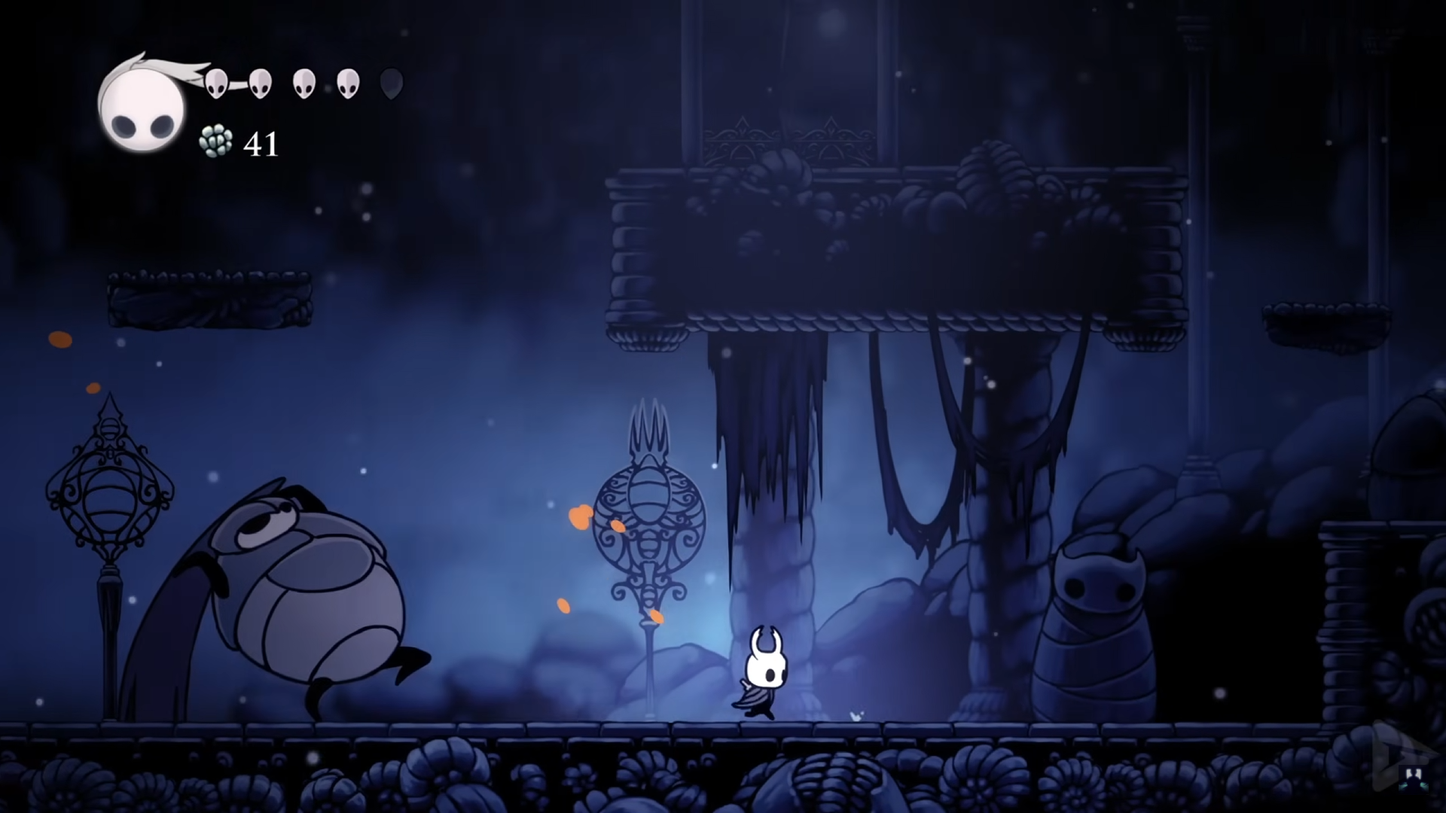HK: (730, 623, 793, 723)
